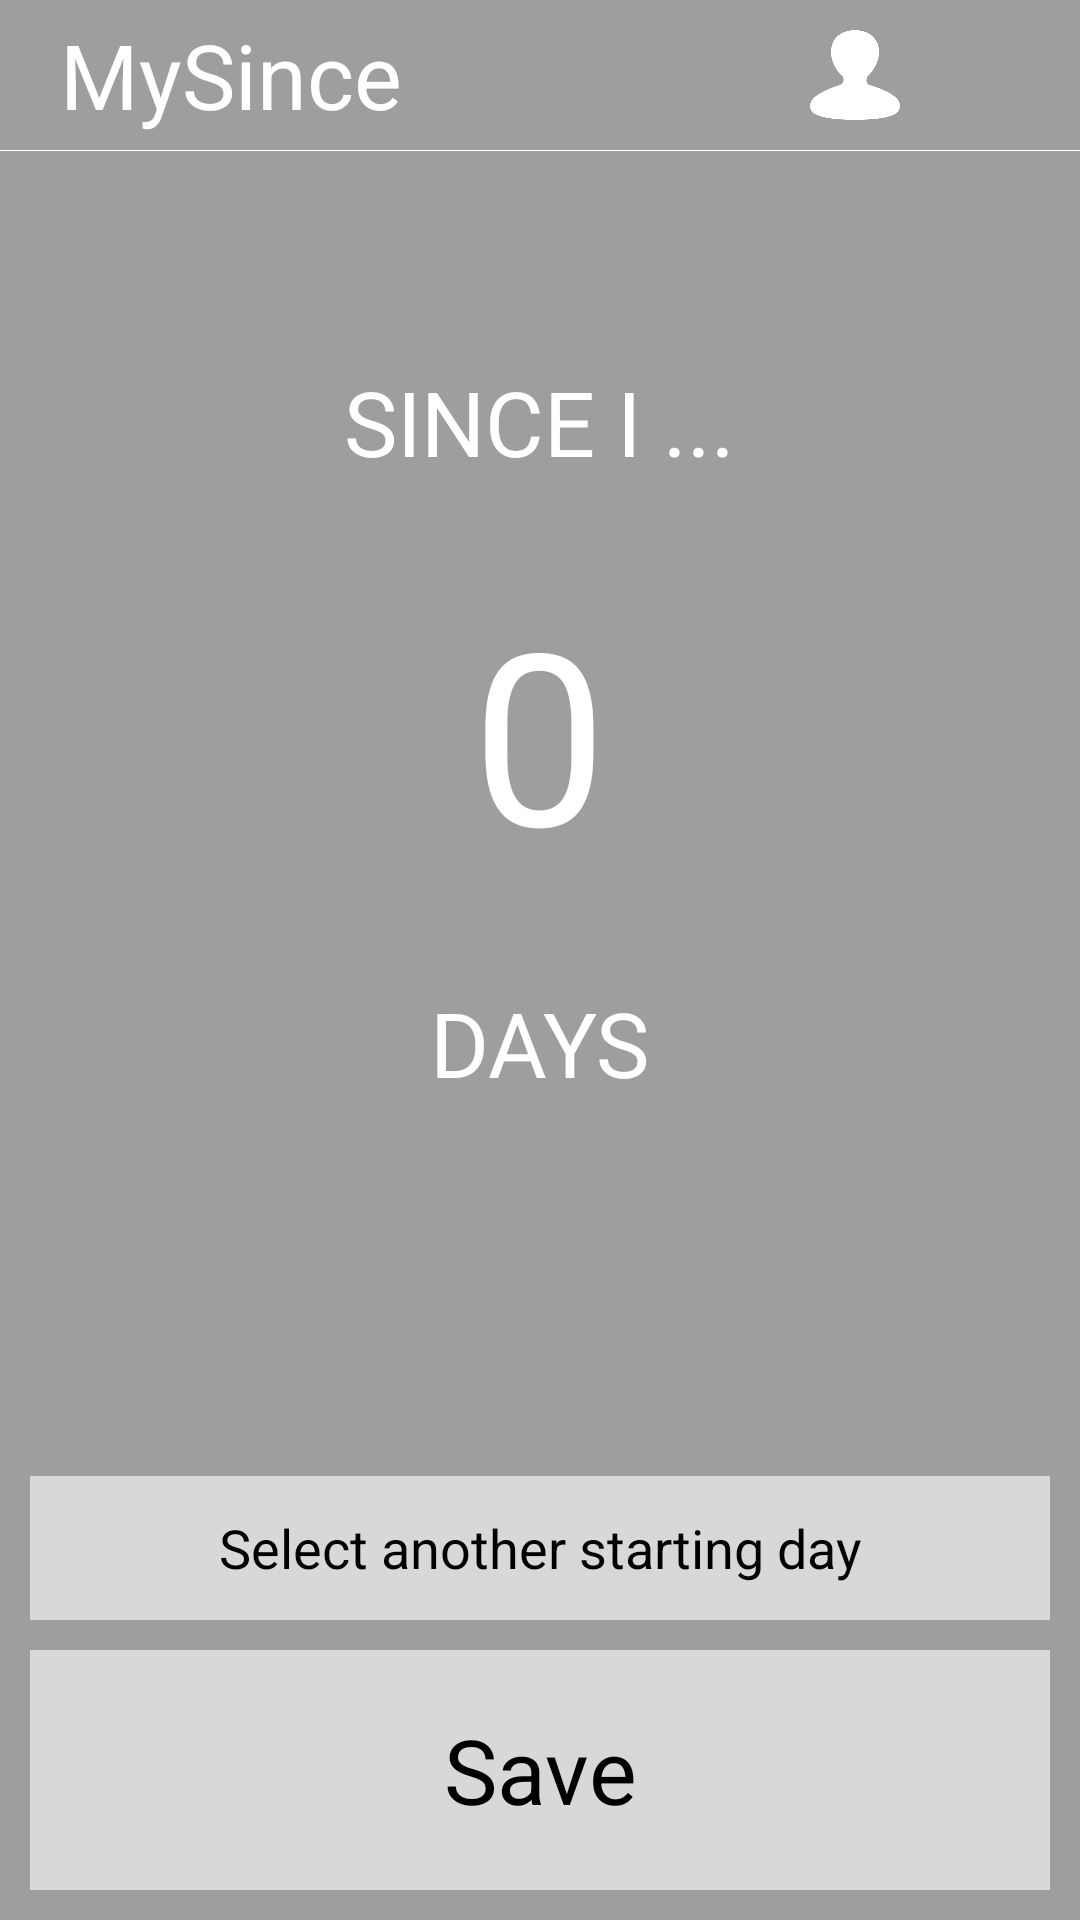

Locate icon controls on the screen. Image size 1080x1920, boxes as [x1, y1, x2, y2].
account: [810, 30, 900, 120]
